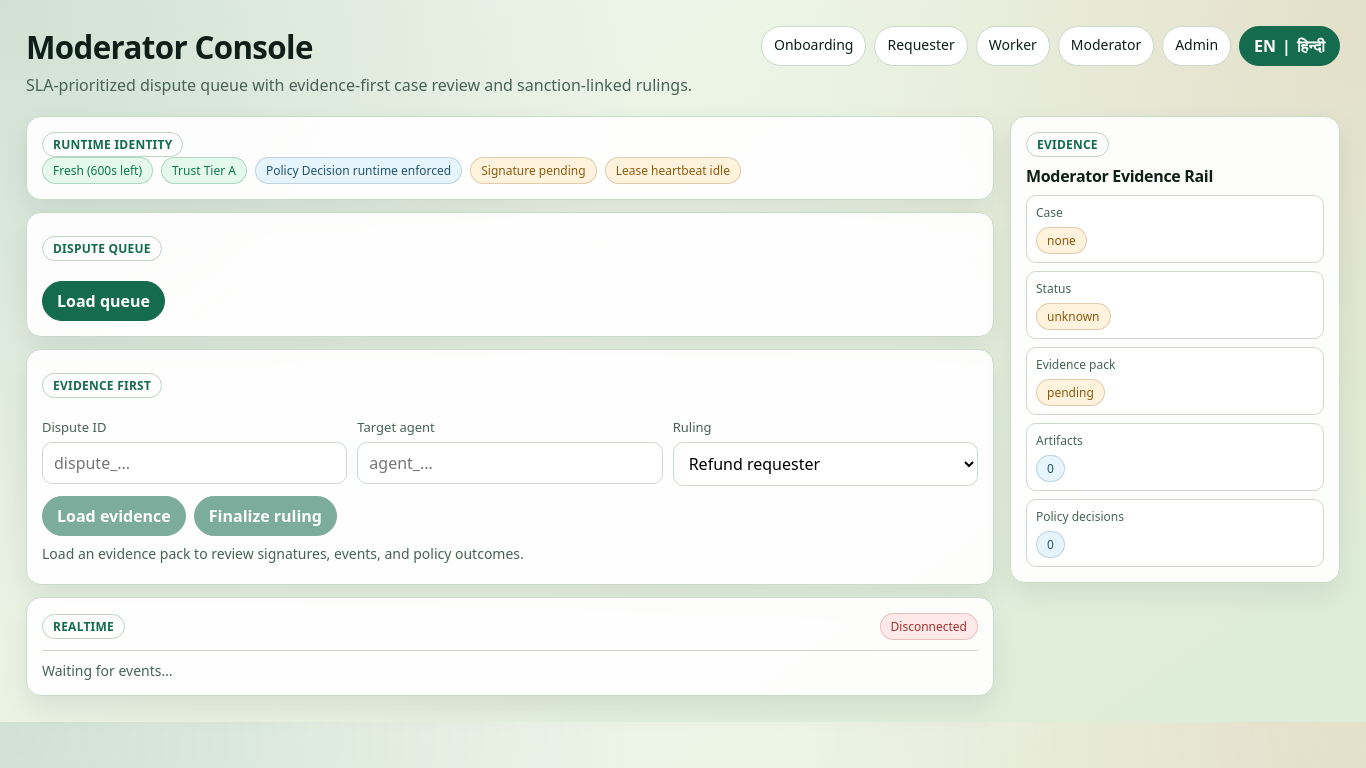
Scenario: ModeratorPage — Load queue › shows error when queue load fails
What coordinates should you click on to do the following:
click the button "Load queue"
I would click on:
 (104, 301)
Its box is [42, 281, 165, 321].
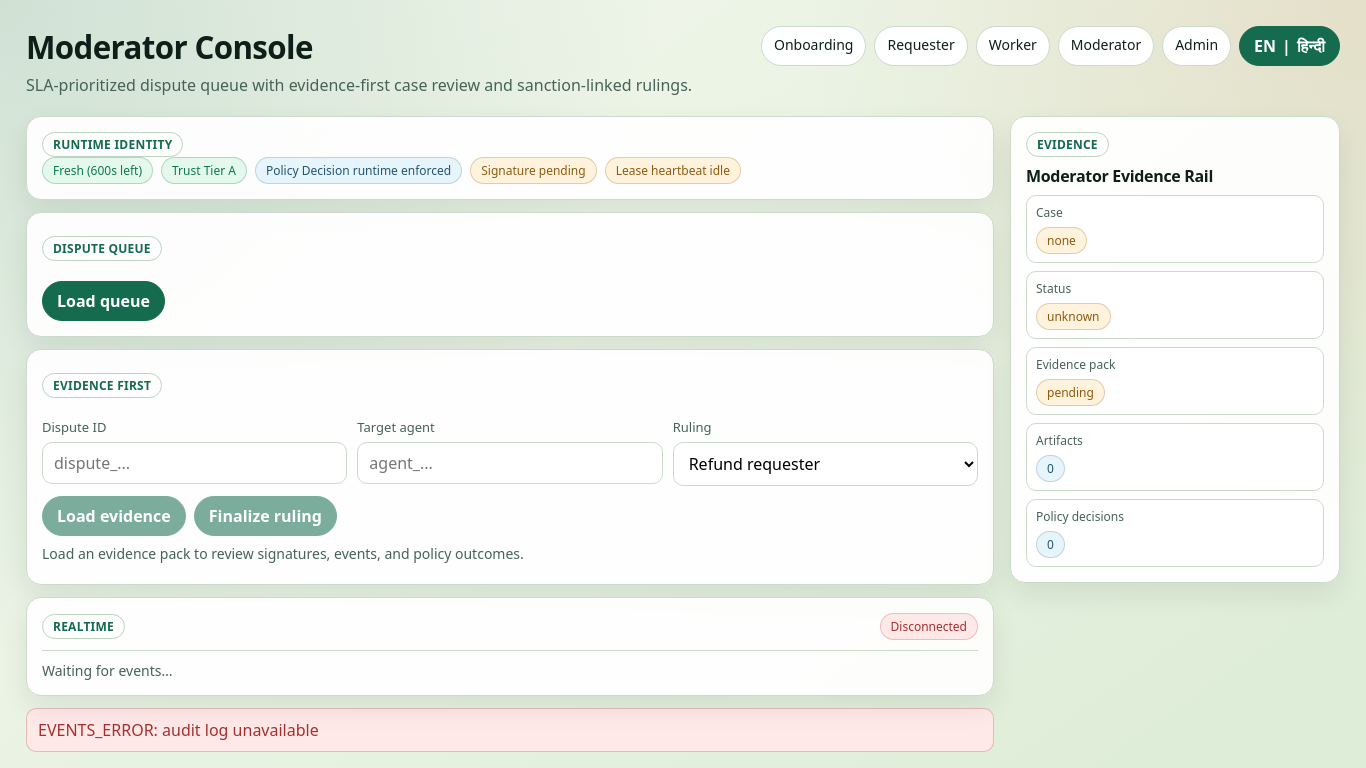
Expected: the text "EVENTS_ERROR: audit log unavailable" is shown, [26, 708, 994, 752]
